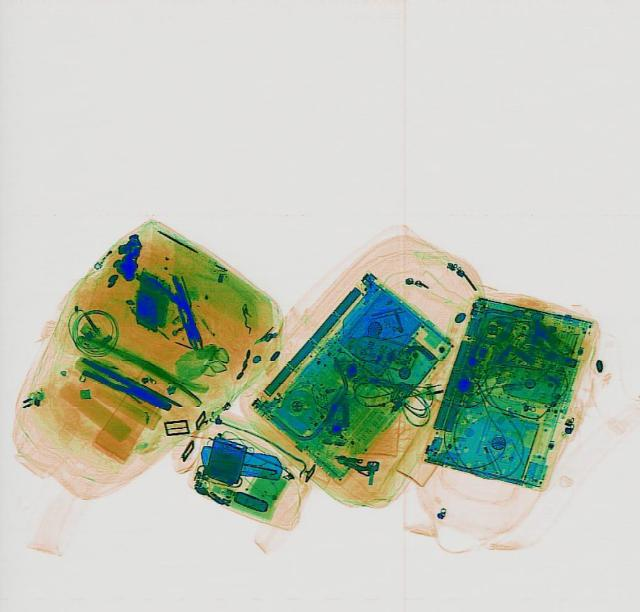Pliers: (72, 355, 174, 417)
